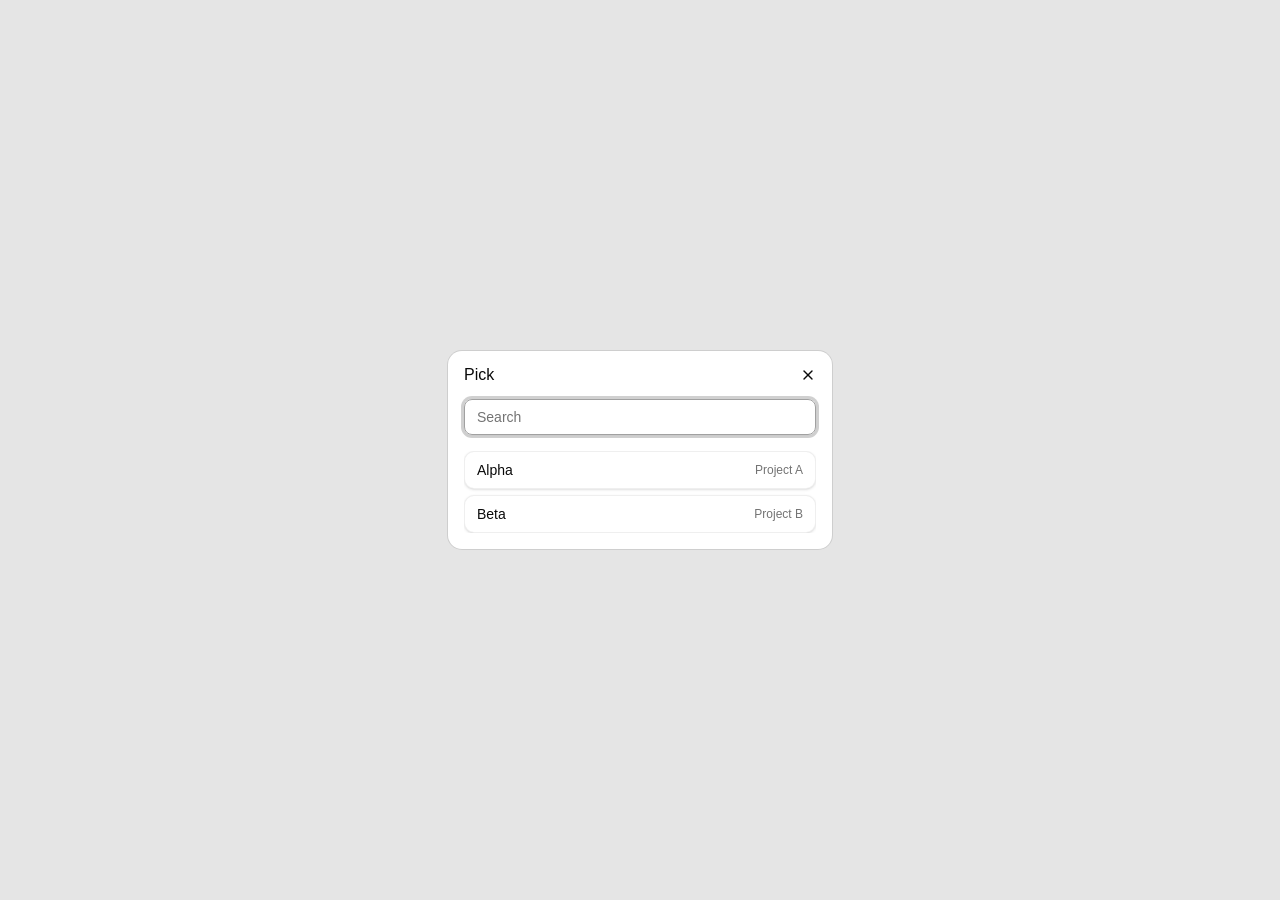
Test: EntityPicker › filters entities by query
Step 1. Type "Alpha" into the field with placeholder "Search" → (640, 417), box x1=464 y1=399 x2=816 y2=435
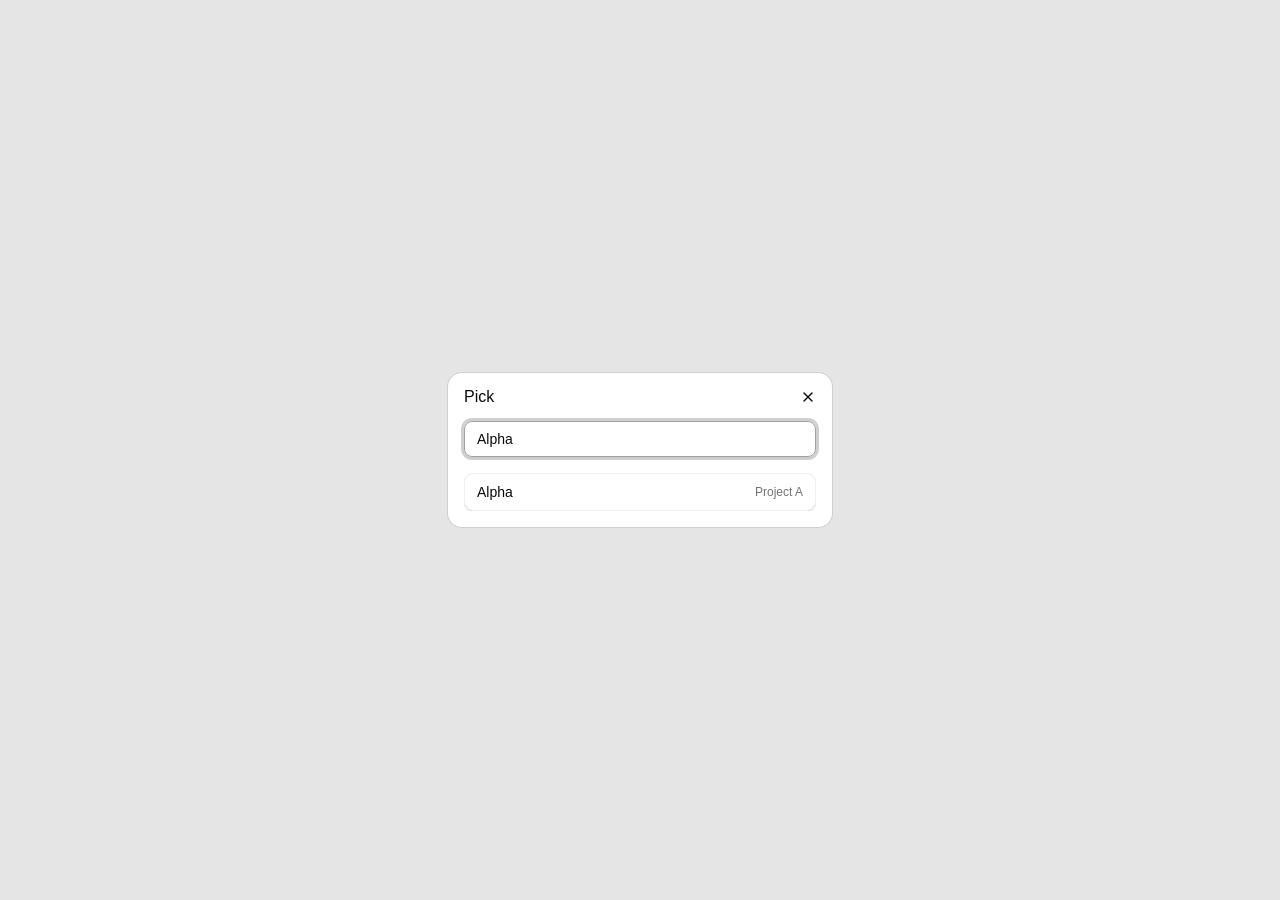
Expected: the text "Alpha" is shown, x1=477 y1=482 x2=513 y2=502
Expected: the button "Beta" is gone
